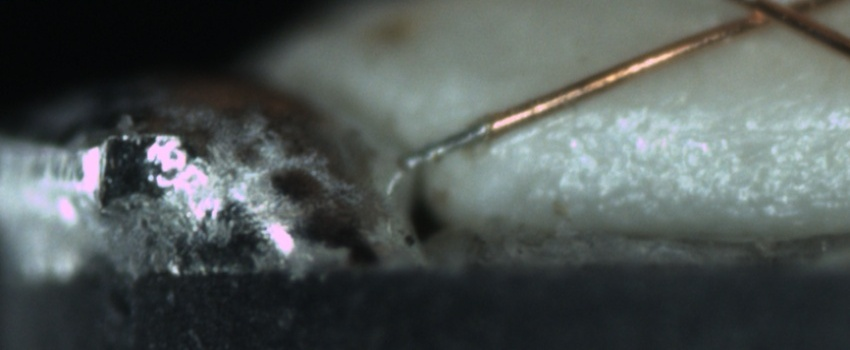CL: (728, 1, 819, 32)
DL: (570, 96, 850, 160)
TS: (406, 116, 492, 169)
TTCW: (379, 107, 528, 187)
